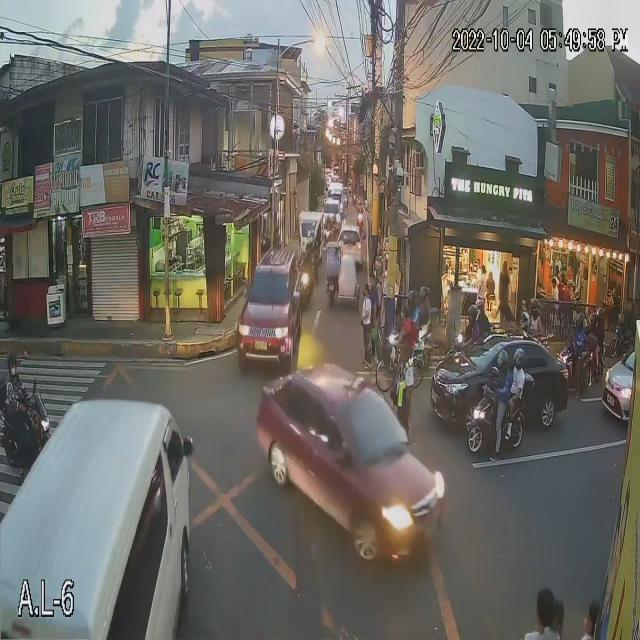helmet: (402, 289, 420, 313), (5, 349, 21, 375), (512, 341, 524, 375), (415, 283, 432, 305), (464, 306, 479, 328), (497, 347, 511, 370), (592, 304, 607, 324), (518, 311, 532, 331), (530, 295, 543, 313), (574, 310, 584, 331), (586, 317, 600, 331), (475, 297, 490, 310)
motorcycle: (468, 393, 534, 466), (0, 397, 56, 471), (557, 345, 604, 393)
rider: (0, 342, 29, 427), (485, 349, 514, 421), (506, 344, 530, 412), (568, 310, 593, 370), (586, 301, 611, 355), (402, 285, 420, 343), (417, 280, 436, 331), (526, 294, 545, 341), (476, 291, 486, 358), (514, 308, 532, 343), (464, 305, 478, 347)
